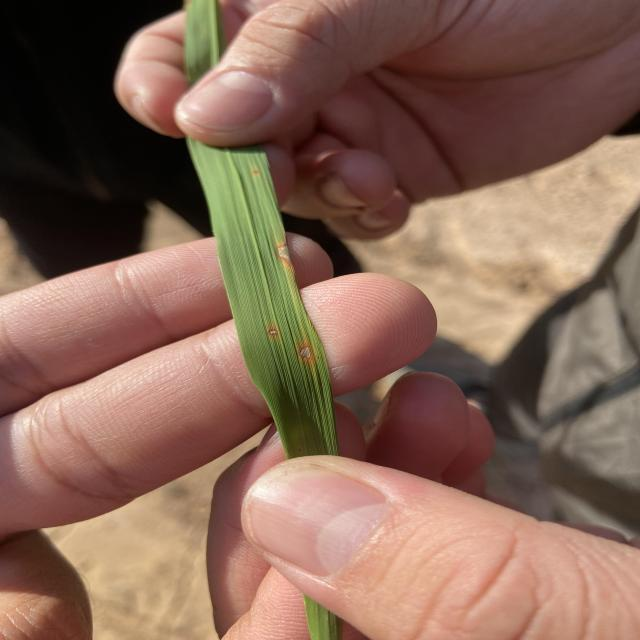Dao on: (278, 237, 292, 270), (299, 343, 313, 365), (267, 326, 278, 337), (254, 169, 259, 174), (299, 448, 302, 453)
